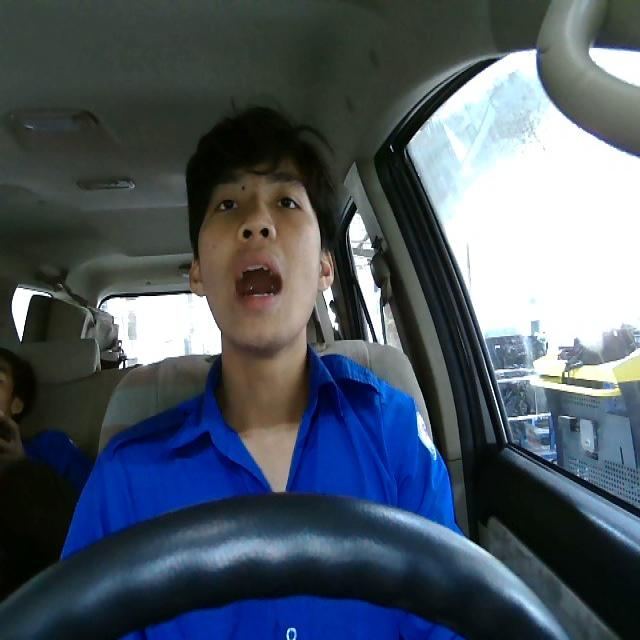yarning: (187, 157, 335, 348)
